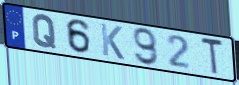2: (166, 34, 192, 71)
6: (64, 18, 92, 55)
9: (132, 26, 161, 68)
K: (99, 21, 126, 62)
Q: (31, 13, 58, 50)
T: (199, 35, 225, 77)
